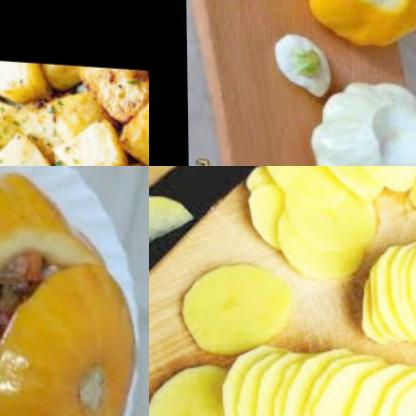potato: (246, 166, 408, 276), (0, 48, 149, 166), (215, 331, 416, 416), (339, 214, 416, 362), (175, 256, 293, 346), (149, 360, 237, 416), (149, 185, 202, 248)
squash-patisson: (0, 166, 147, 416), (301, 70, 416, 166), (271, 16, 339, 94), (297, 0, 416, 44)
